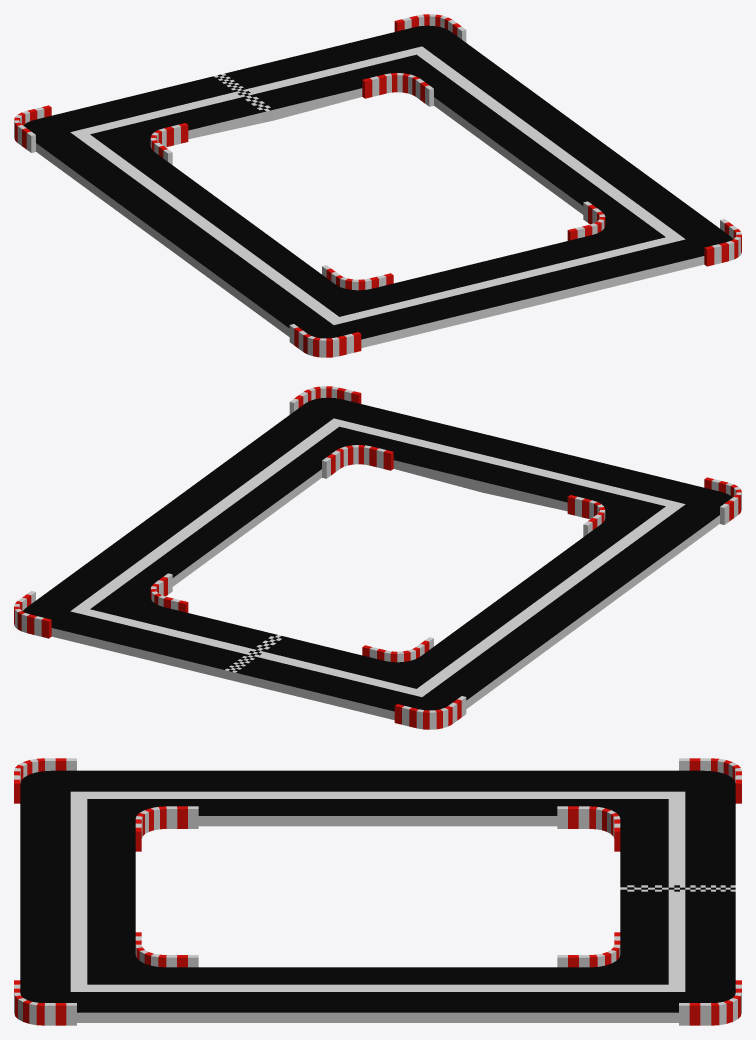
Rendered from razeing_game-level_1.fbx.
The picture shows the model from 3 angles, top to bottom: view 1: azimuth 30°, elevation 25°; view 2: azimuth 150°, elevation 25°; view 3: azimuth 270°, elevation 25°; orthographic projection. The views are drawn at different scales.
Parts seen in each view (by area): view 1: Cube.001; view 2: Cube.001; view 3: Cube.001.
Part boxes in pixels (bbox=[...]): Cube.001: bbox=[14, 14, 741, 357]; Cube.001: bbox=[14, 386, 741, 729]; Cube.001: bbox=[14, 758, 741, 1025].
Size of the model in its own units: 15707 by 675 by 19528.
